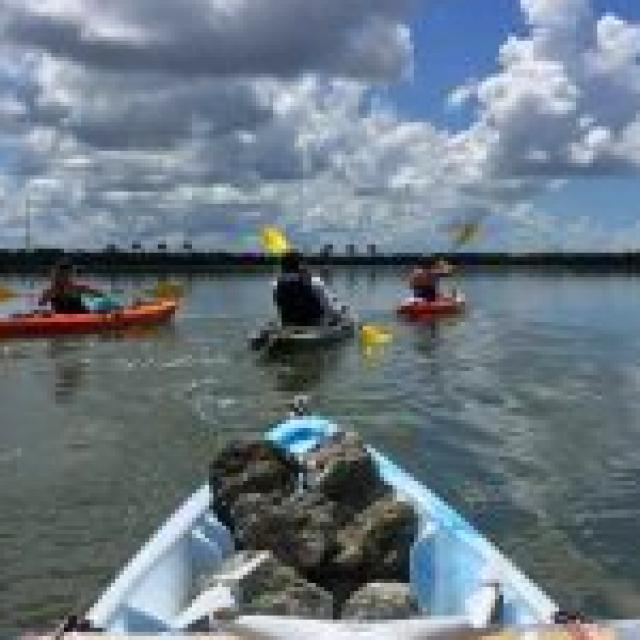drone: (115, 579, 610, 640)
